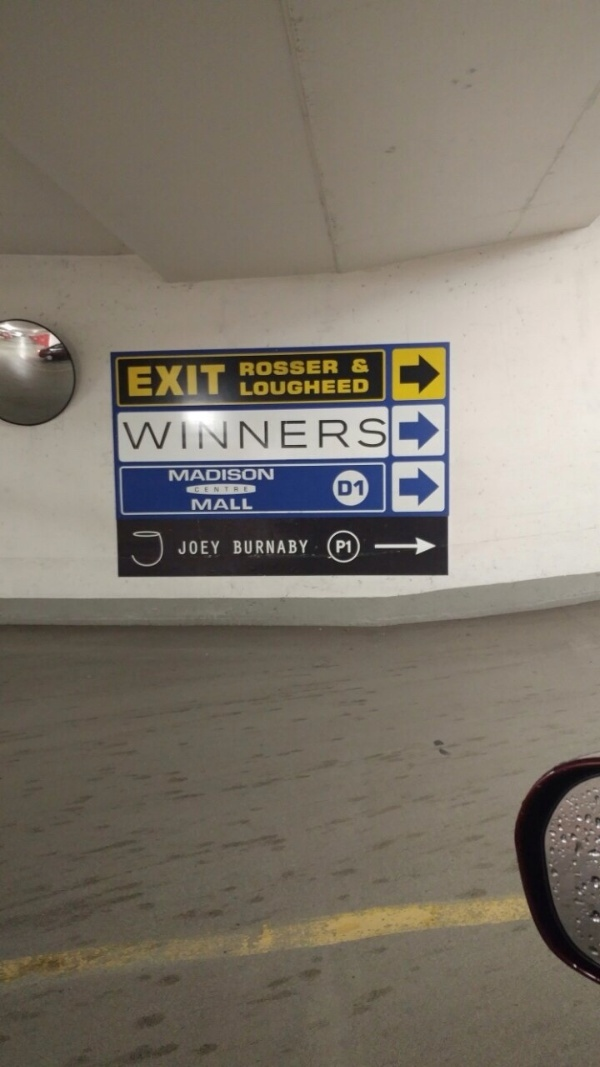text: (129, 363, 144, 397), (145, 363, 160, 397), (161, 363, 176, 397), (177, 363, 192, 397), (193, 363, 208, 397), (209, 363, 224, 397), (129, 418, 144, 451), (145, 418, 160, 451), (161, 418, 176, 451), (177, 418, 192, 451), (193, 418, 208, 451), (209, 418, 224, 451), (225, 418, 240, 451), (241, 418, 256, 451), (257, 418, 272, 451), (273, 418, 288, 451), (289, 418, 304, 451), (305, 418, 320, 451), (321, 418, 336, 451), (337, 418, 352, 451), (353, 418, 368, 451), (369, 418, 384, 451), (241, 378, 256, 396), (257, 378, 272, 396), (273, 378, 288, 396), (289, 378, 304, 396), (305, 378, 320, 396), (321, 378, 336, 396), (337, 378, 352, 396), (353, 378, 368, 396), (241, 360, 256, 376), (257, 360, 272, 376), (273, 360, 288, 376), (289, 360, 304, 376), (305, 360, 320, 376), (321, 360, 336, 376), (353, 358, 368, 374), (241, 540, 256, 555), (257, 540, 272, 555), (273, 540, 288, 555), (289, 540, 304, 555), (338, 480, 352, 496), (193, 541, 208, 555), (337, 540, 352, 554), (177, 468, 192, 481), (193, 468, 208, 481), (209, 468, 224, 481), (225, 468, 240, 481), (241, 468, 256, 481), (257, 468, 272, 481), (193, 498, 208, 511), (209, 498, 224, 511), (225, 498, 240, 511), (353, 480, 365, 496), (179, 541, 192, 555), (241, 498, 254, 511), (123, 418, 128, 451), (209, 541, 220, 555), (209, 486, 224, 494), (225, 486, 240, 494), (233, 540, 240, 555), (195, 486, 208, 494), (169, 468, 176, 481), (305, 540, 310, 555), (385, 418, 387, 451), (241, 486, 249, 494), (225, 363, 226, 397), (337, 360, 339, 376), (273, 468, 275, 481), (369, 378, 370, 396), (351, 358, 352, 374), (369, 358, 370, 374), (335, 540, 336, 554), (191, 498, 192, 511)
